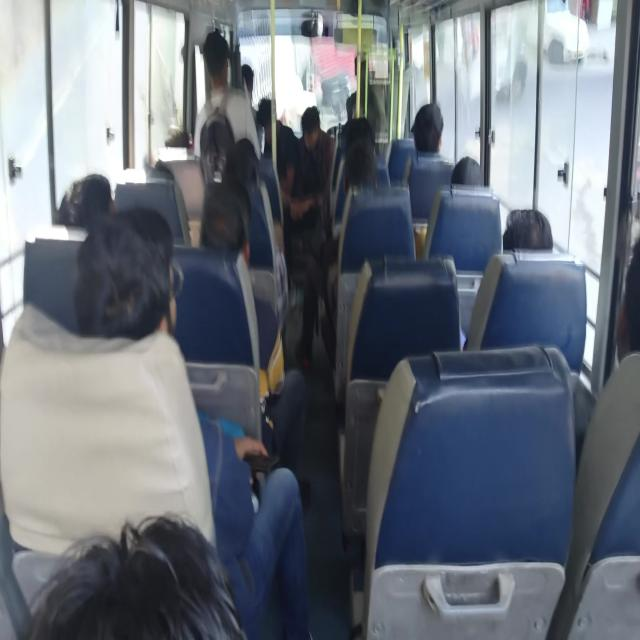person: (52, 482, 299, 640), (60, 229, 188, 362), (510, 198, 580, 306), (605, 209, 640, 345), (198, 193, 254, 275), (75, 170, 118, 260), (199, 30, 244, 109), (261, 90, 304, 169), (218, 153, 260, 213), (418, 102, 459, 162), (352, 138, 395, 186), (298, 100, 329, 160), (145, 142, 180, 194), (165, 128, 203, 174), (459, 154, 494, 200), (238, 131, 263, 172), (341, 117, 369, 151), (239, 59, 255, 108), (404, 115, 430, 144)
